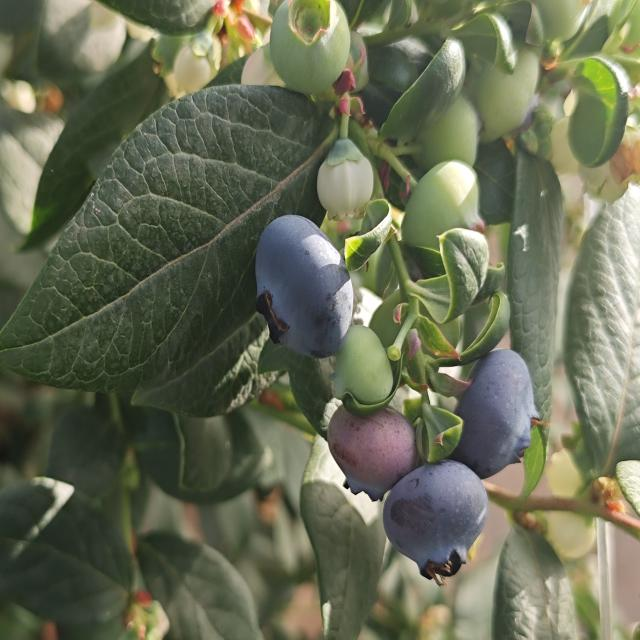ripe: (252, 205, 358, 366), (377, 454, 499, 573), (460, 345, 540, 471)
